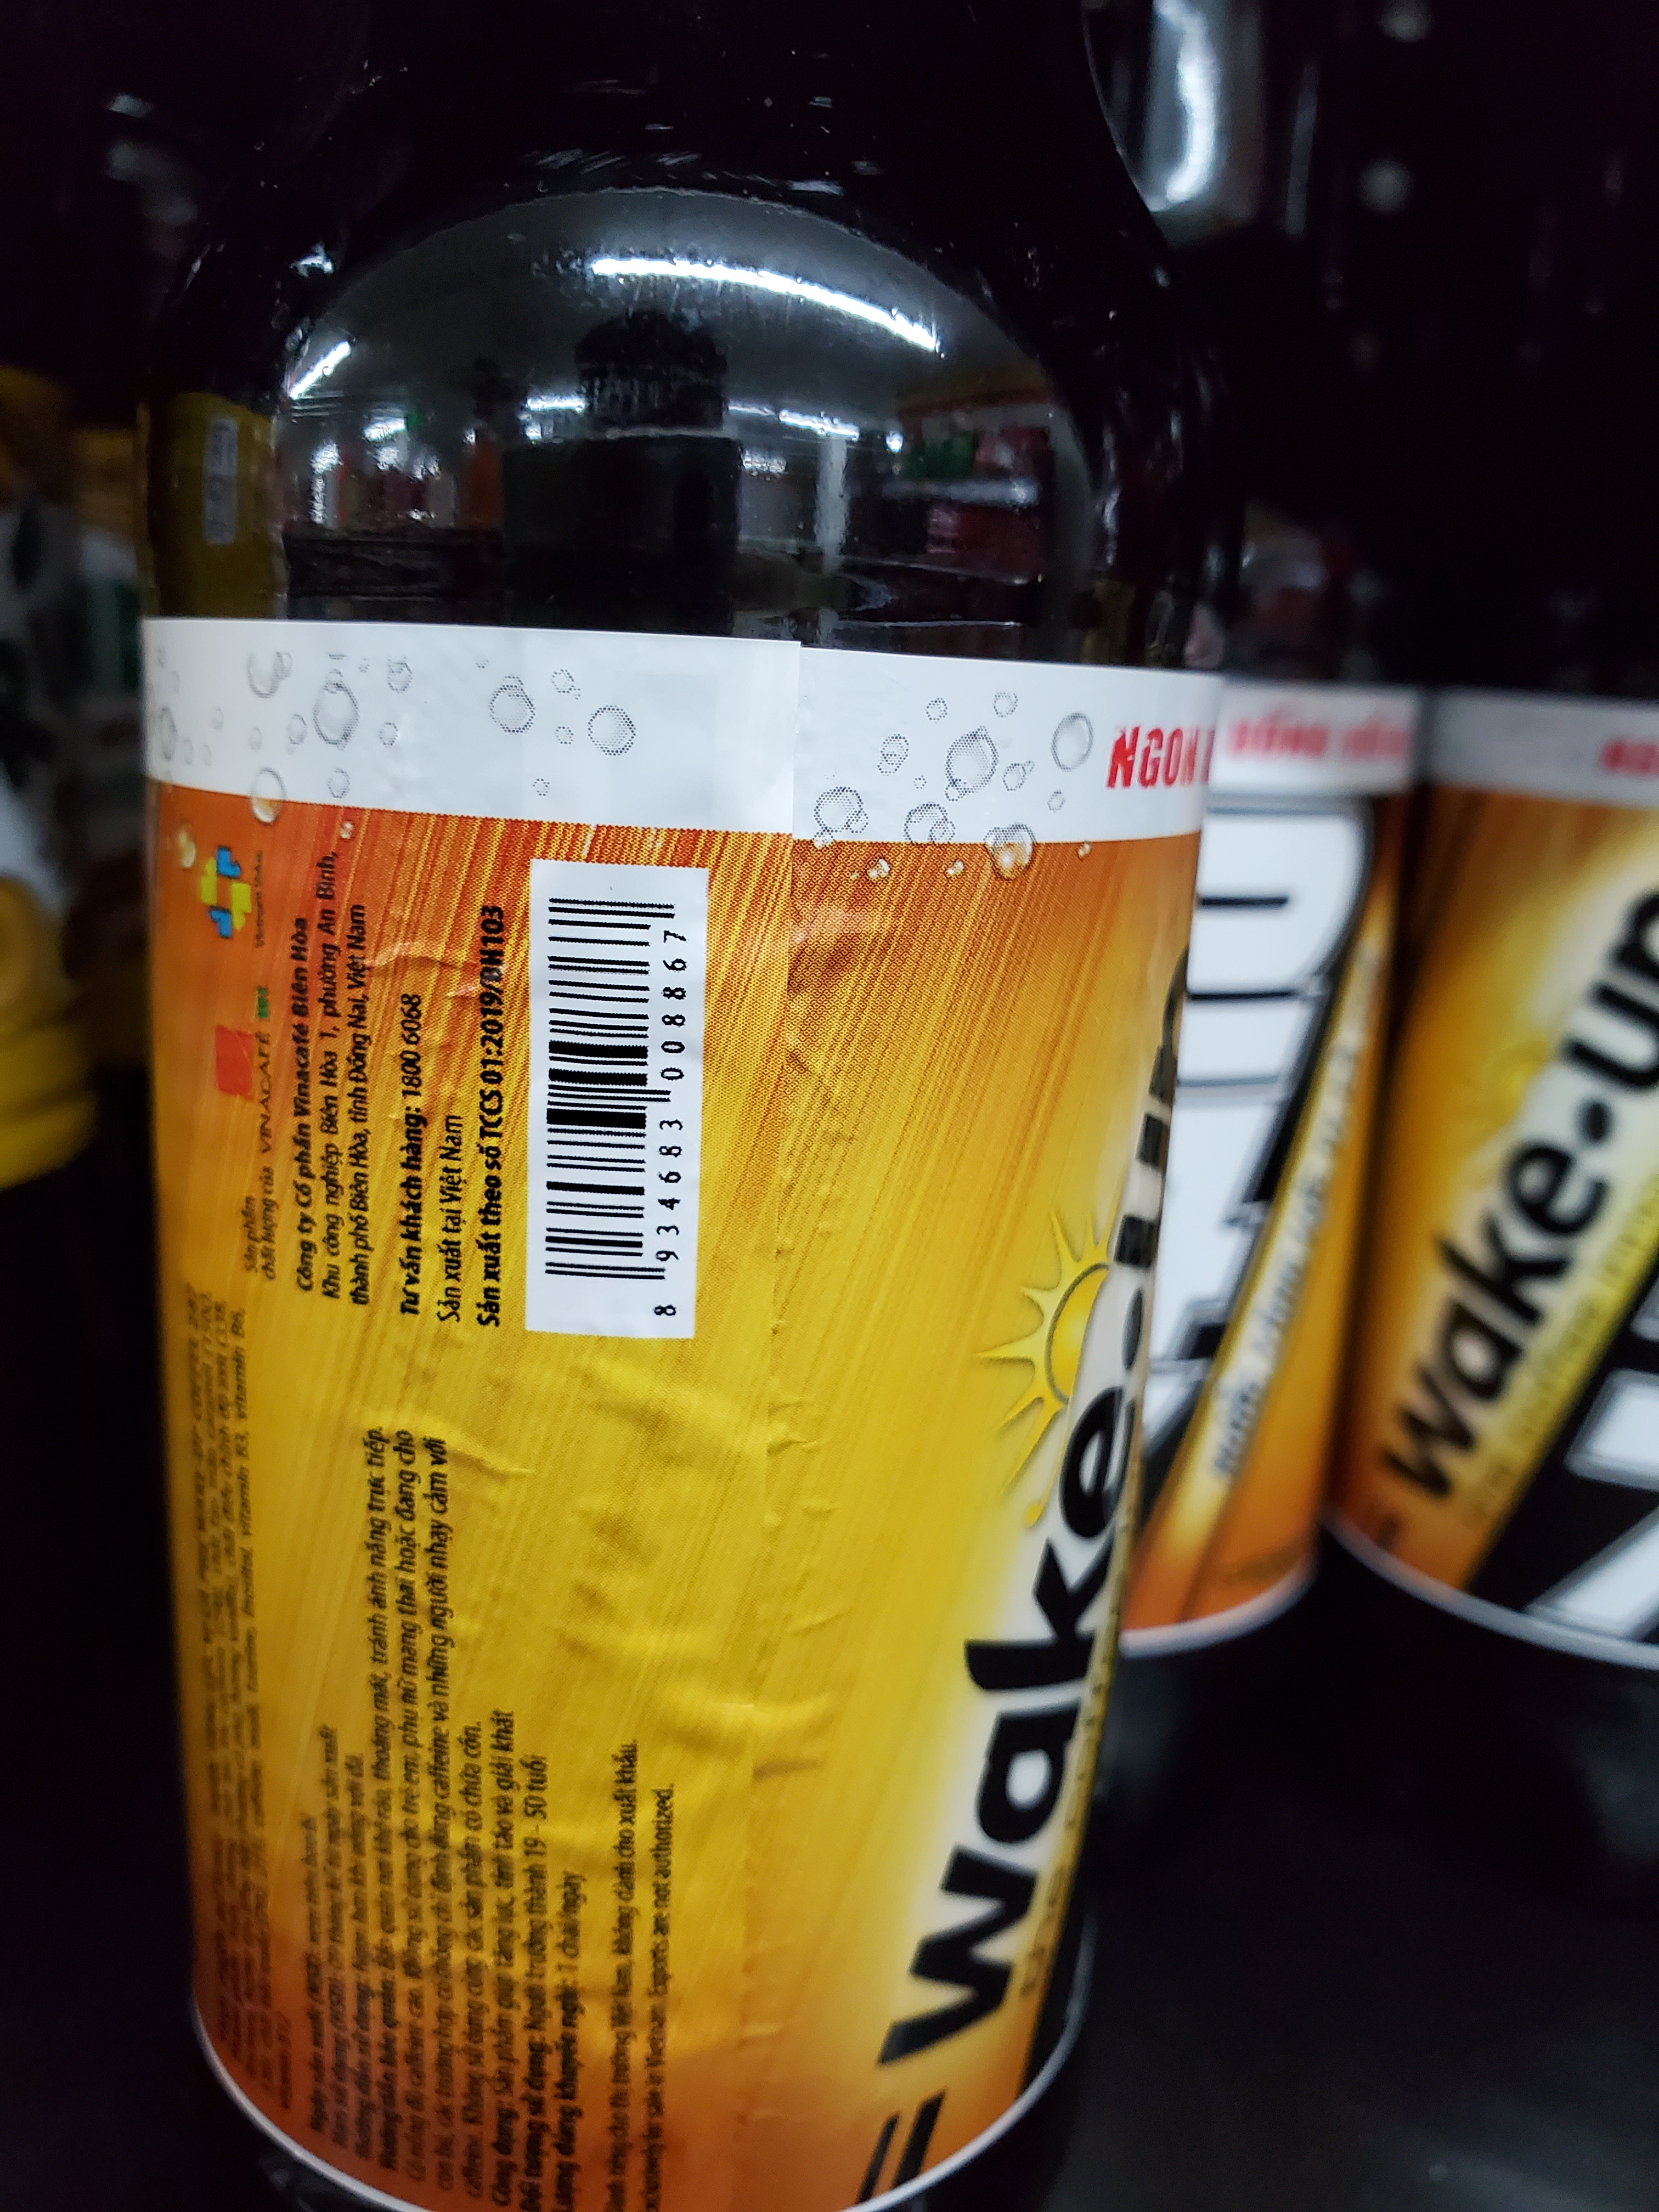barcode: (511, 867, 706, 1336)
